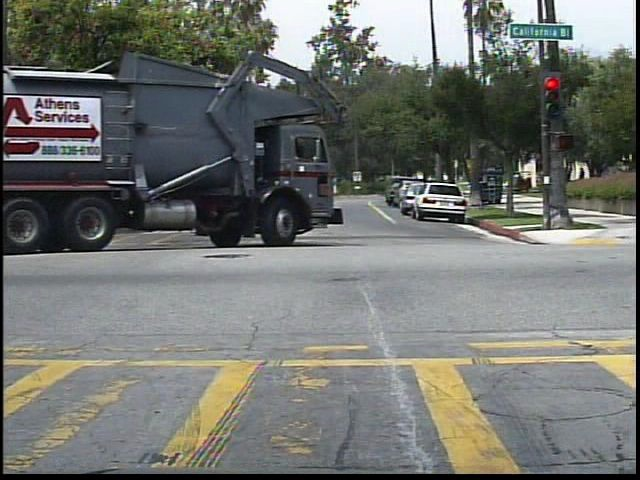person: (574, 163, 592, 194)
